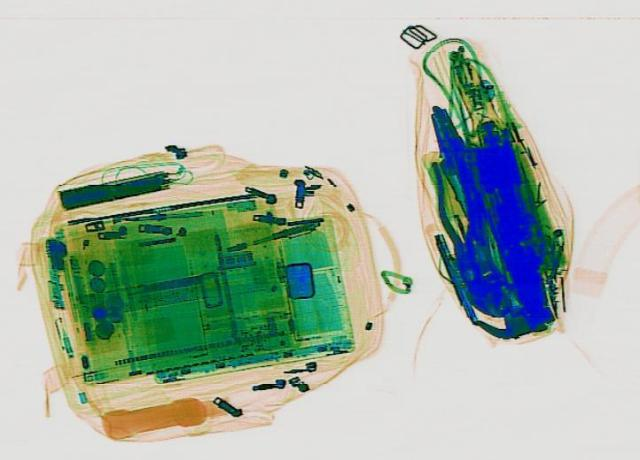Pliers: (426, 156, 496, 282)
